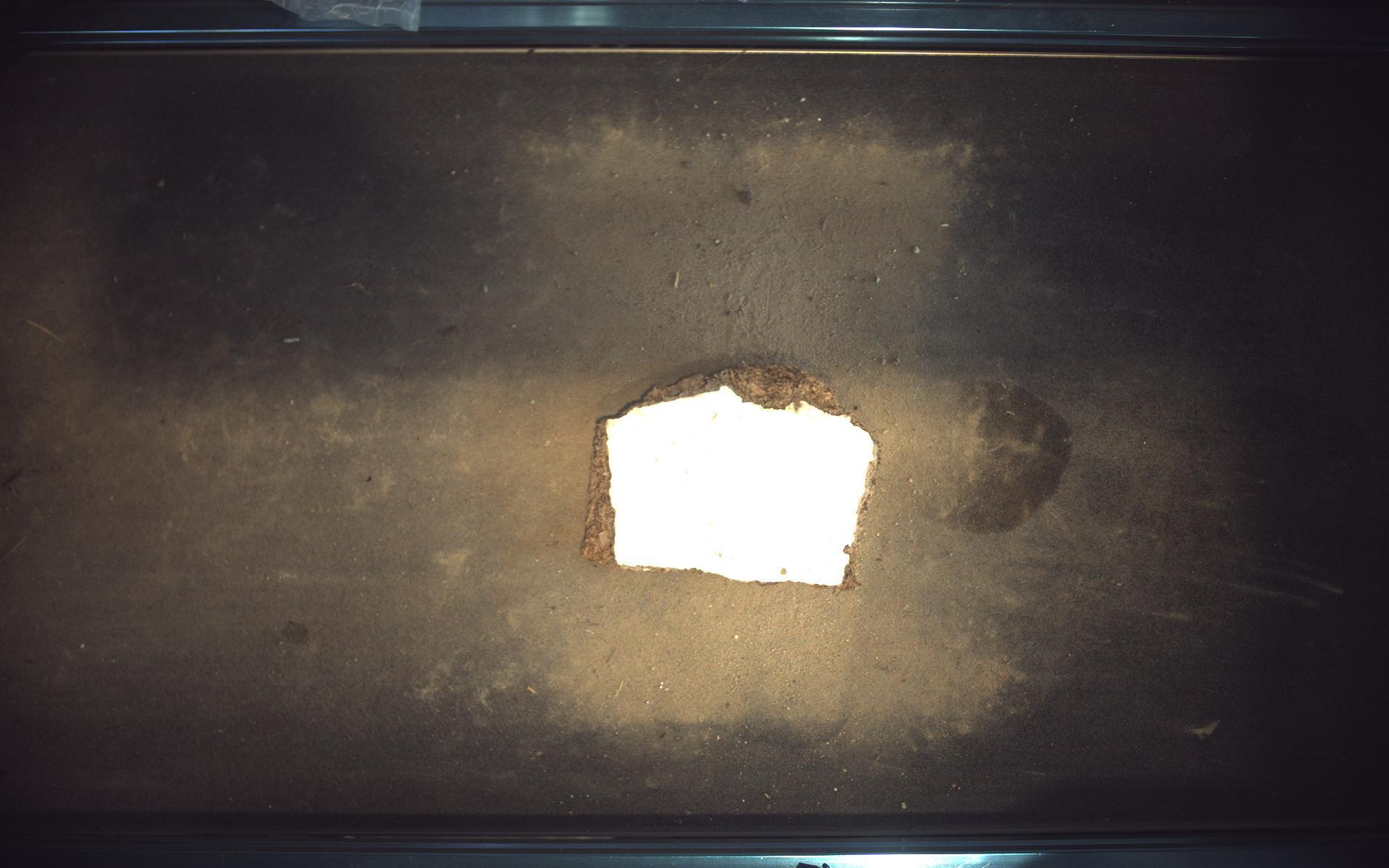wood: (582, 365, 879, 588)
